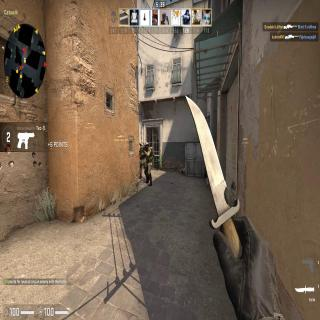CT-Body: (143, 140, 154, 178), (139, 140, 146, 179)
CT-Head: (144, 141, 149, 148), (140, 141, 144, 147)
